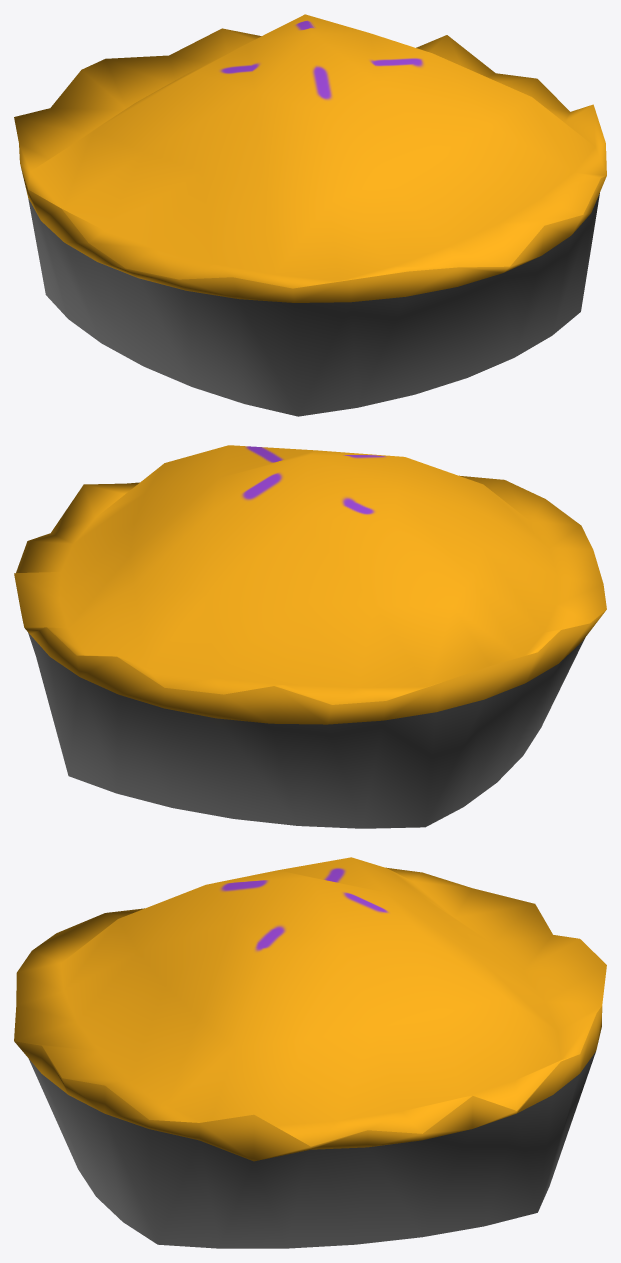
File: Pie.obj
3 views of the same model, one above another, from view 1: azimuth 30°, elevation 25°; view 2: azimuth 150°, elevation 25°; view 3: azimuth 270°, elevation 25° (orthographic).
Parts seen in each view (by area): view 1: Handle1; view 2: Handle1; view 3: Handle1.
Boxes of the visible parts, <box> form: Handle1: <box>14,14,606,416</box>; Handle1: <box>14,445,606,828</box>; Handle1: <box>14,857,606,1248</box>.
Bounding box in the file's own units: 2 × 1 × 1.97.
1 material, 1 textured.
